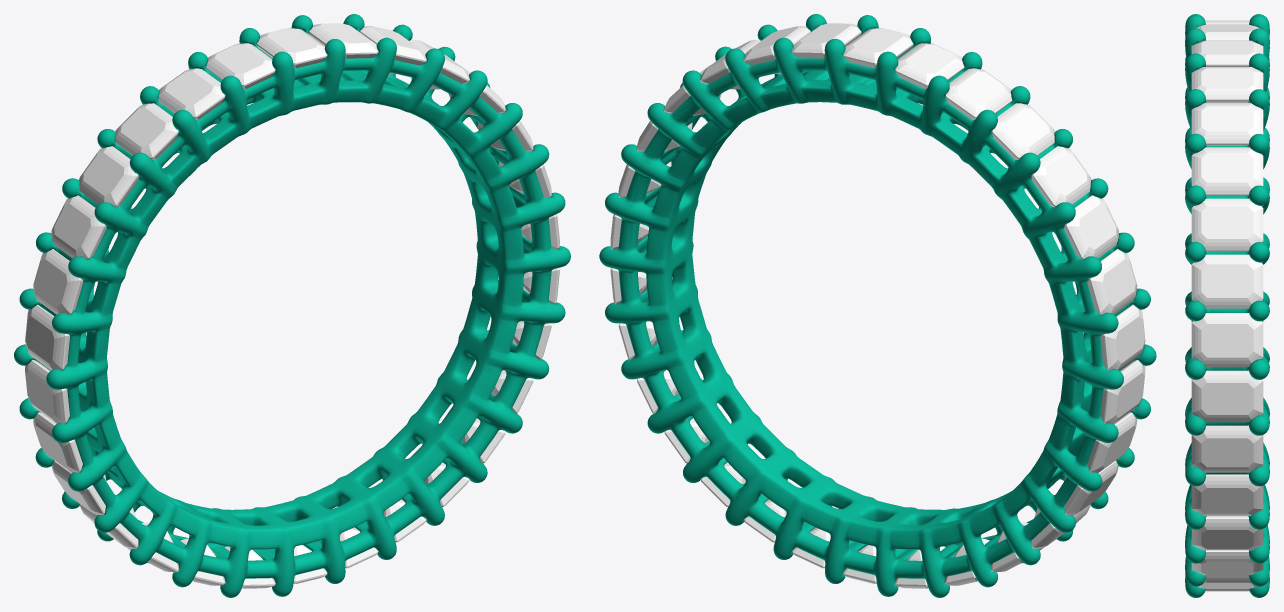
File: BE2DRA200E_RENDER.glb
3 renders of one model, left to right at view 1: azimuth 30°, elevation 25°; view 2: azimuth 150°, elevation 25°; view 3: azimuth 270°, elevation 25°, orthographic. The views are drawn at different scales.
Visible parts, largest first — view 1: Metal03, Diamond_Emerald_Gem_BD.004, Diamond_Emerald_Gem_BD.003, Diamond_Emerald_Gem_BD.005, Diamond_Emerald_Gem_BD.002, Diamond_Emerald_Gem_BD.006, Diamond_Emerald_Gem_BD.001, Diamond_Emerald_Gem_BD.007, Diamond_Emerald_Gem_BD, Diamond_Emerald_Gem_BD.008, Diamond_Emerald_Gem_BD.029, Diamond_Emerald_Gem_BD.009 (+2 smaller); view 2: Metal03, Diamond_Emerald_Gem_BD.004, Diamond_Emerald_Gem_BD.003, Diamond_Emerald_Gem_BD.005, Diamond_Emerald_Gem_BD.002, Diamond_Emerald_Gem_BD.006, Diamond_Emerald_Gem_BD.001, Diamond_Emerald_Gem_BD.007, Diamond_Emerald_Gem_BD, Diamond_Emerald_Gem_BD.008, Diamond_Emerald_Gem_BD.029, Diamond_Emerald_Gem_BD.009 (+2 smaller); view 3: Metal03, Diamond_Emerald_Gem_BD.025, Diamond_Emerald_Gem_BD.024, Diamond_Emerald_Gem_BD.026, Diamond_Emerald_Gem_BD.023, Diamond_Emerald_Gem_BD.027, Diamond_Emerald_Gem_BD.022, Diamond_Emerald_Gem_BD.028, Diamond_Emerald_Gem_BD.021, Diamond_Emerald_Gem_BD.029, Diamond_Emerald_Gem_BD.020, Diamond_Emerald_Gem_BD (+4 smaller).
Part boxes in pixels (x1,y1,x2,y2): Metal03: [14, 14, 570, 597]; Diamond_Emerald_Gem_BD.004: [79, 146, 138, 207]; Diamond_Emerald_Gem_BD.003: [115, 103, 178, 159]; Diamond_Emerald_Gem_BD.005: [51, 195, 106, 259]; Diamond_Emerald_Gem_BD.002: [158, 68, 225, 119]; Diamond_Emerald_Gem_BD.006: [33, 249, 83, 314]; Diamond_Emerald_Gem_BD.001: [205, 43, 275, 88]; Diamond_Emerald_Gem_BD.007: [25, 304, 69, 370]; Diamond_Emerald_Gem_BD: [256, 28, 327, 68]; Diamond_Emerald_Gem_BD.008: [25, 360, 69, 423]; Diamond_Emerald_Gem_BD.029: [308, 23, 378, 58]; Diamond_Emerald_Gem_BD.009: [33, 412, 82, 472]; Metal03: [599, 14, 1156, 597]; Diamond_Emerald_Gem_BD.004: [1031, 146, 1091, 207]; Diamond_Emerald_Gem_BD.003: [991, 103, 1054, 159]; Diamond_Emerald_Gem_BD.005: [1064, 195, 1118, 259]; Diamond_Emerald_Gem_BD.002: [945, 68, 1012, 119]; Diamond_Emerald_Gem_BD.006: [1087, 249, 1137, 314]; Diamond_Emerald_Gem_BD.001: [895, 43, 964, 88]; Diamond_Emerald_Gem_BD.007: [1100, 304, 1145, 370]; Diamond_Emerald_Gem_BD: [842, 28, 913, 68]; Diamond_Emerald_Gem_BD.008: [1100, 360, 1145, 423]; Diamond_Emerald_Gem_BD.029: [791, 23, 861, 58]; Diamond_Emerald_Gem_BD.009: [1087, 412, 1137, 472]; Metal03: [1185, 14, 1269, 597]; Diamond_Emerald_Gem_BD.025: [1191, 254, 1263, 308]; Diamond_Emerald_Gem_BD.024: [1191, 313, 1263, 366]; Diamond_Emerald_Gem_BD.026: [1191, 198, 1263, 250]; Diamond_Emerald_Gem_BD.023: [1191, 370, 1263, 422]; Diamond_Emerald_Gem_BD.027: [1191, 147, 1263, 195]; Diamond_Emerald_Gem_BD.022: [1191, 425, 1263, 472]; Diamond_Emerald_Gem_BD.028: [1191, 102, 1263, 145]; Diamond_Emerald_Gem_BD.021: [1191, 474, 1263, 515]; Diamond_Emerald_Gem_BD.029: [1191, 67, 1263, 102]; Diamond_Emerald_Gem_BD.020: [1191, 516, 1263, 550]; Diamond_Emerald_Gem_BD: [1191, 40, 1263, 66].
Size of the model in its own units: 21.7 by 21.58 by 3.14.
